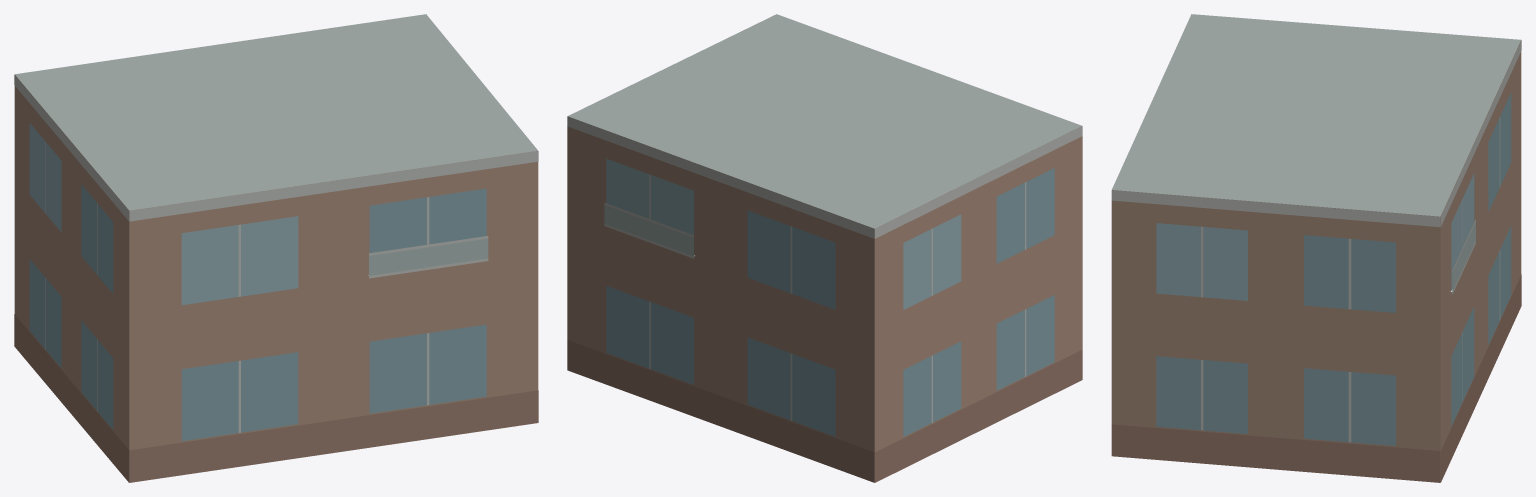
Rendered from survey-upis-32654961.glb.
The picture shows the model from 3 angles, left to right: view 1: azimuth 30°, elevation 25°; view 2: azimuth 150°, elevation 25°; view 3: azimuth 270°, elevation 25°; orthographic projection. The views are drawn at different scales.
Visible parts, largest first — view 1: survey-upis-32654961.tmp; view 2: survey-upis-32654961.tmp; view 3: survey-upis-32654961.tmp.
Part boxes in pixels (bbox=[...]): survey-upis-32654961.tmp: bbox=[14, 14, 538, 482]; survey-upis-32654961.tmp: bbox=[567, 14, 1082, 482]; survey-upis-32654961.tmp: bbox=[1111, 14, 1521, 482].
Size of the model in its own units: 9.96 by 6.1 by 8.52.
